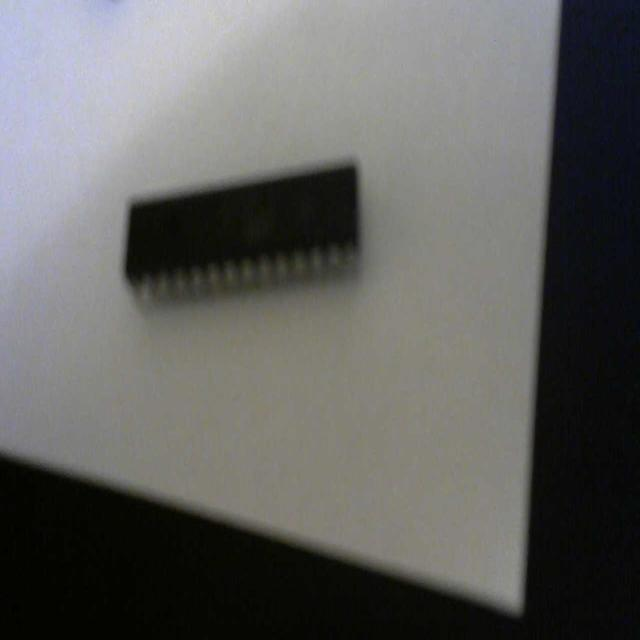atmega: (121, 157, 363, 311)
